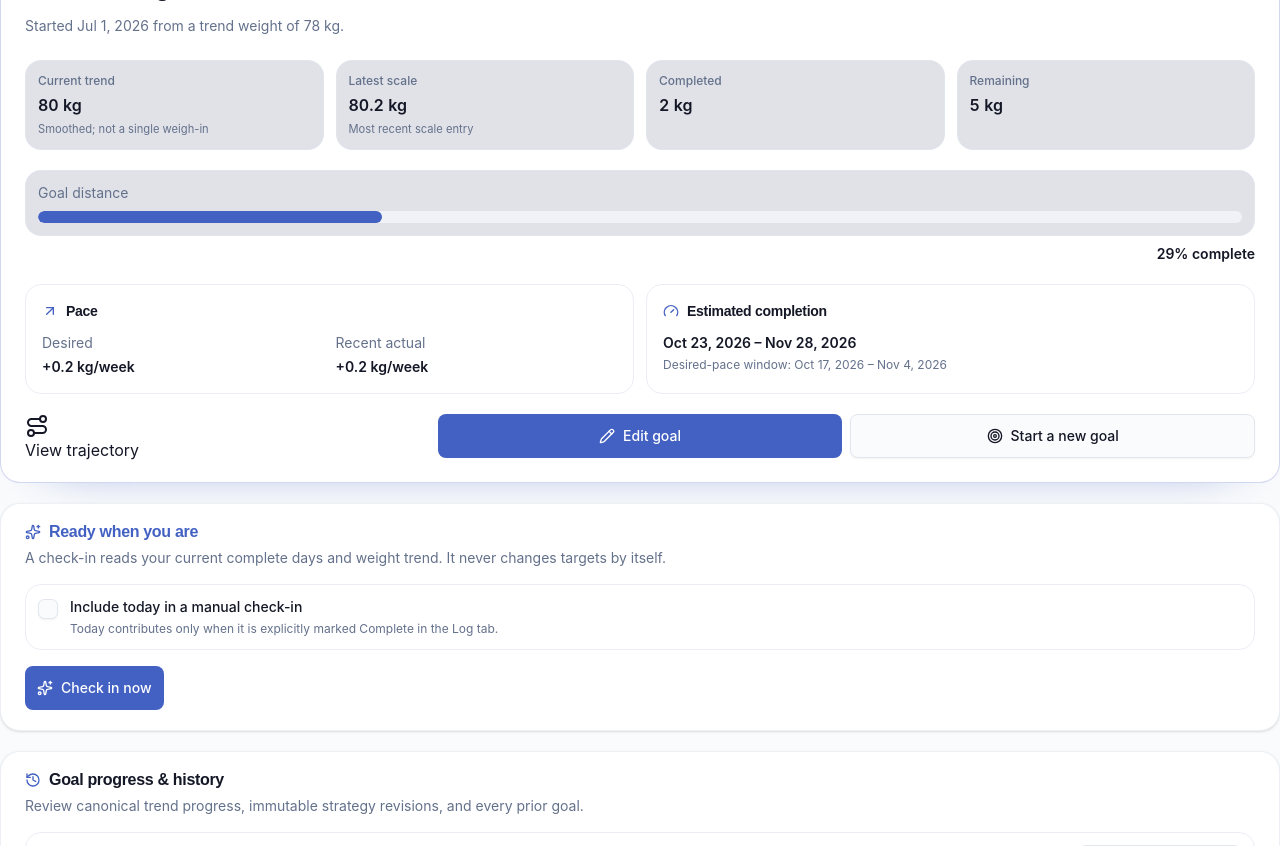
Test case: AdaptiveCoach › renders gain progress in the preferred unit
This screenshot has width=1280, height=846.
(page scrolled)
Expected: the text "80 kg" is shown, [38, 94, 82, 114]
Expected: the text "+0.2 kg/week" is shown 2 times, [42, 358, 135, 375]; [336, 358, 428, 375]
What coordinates should you click on to do the following:
click the button "Edit goal"
I would click on:
 (640, 436)
Its box is [438, 414, 842, 458].
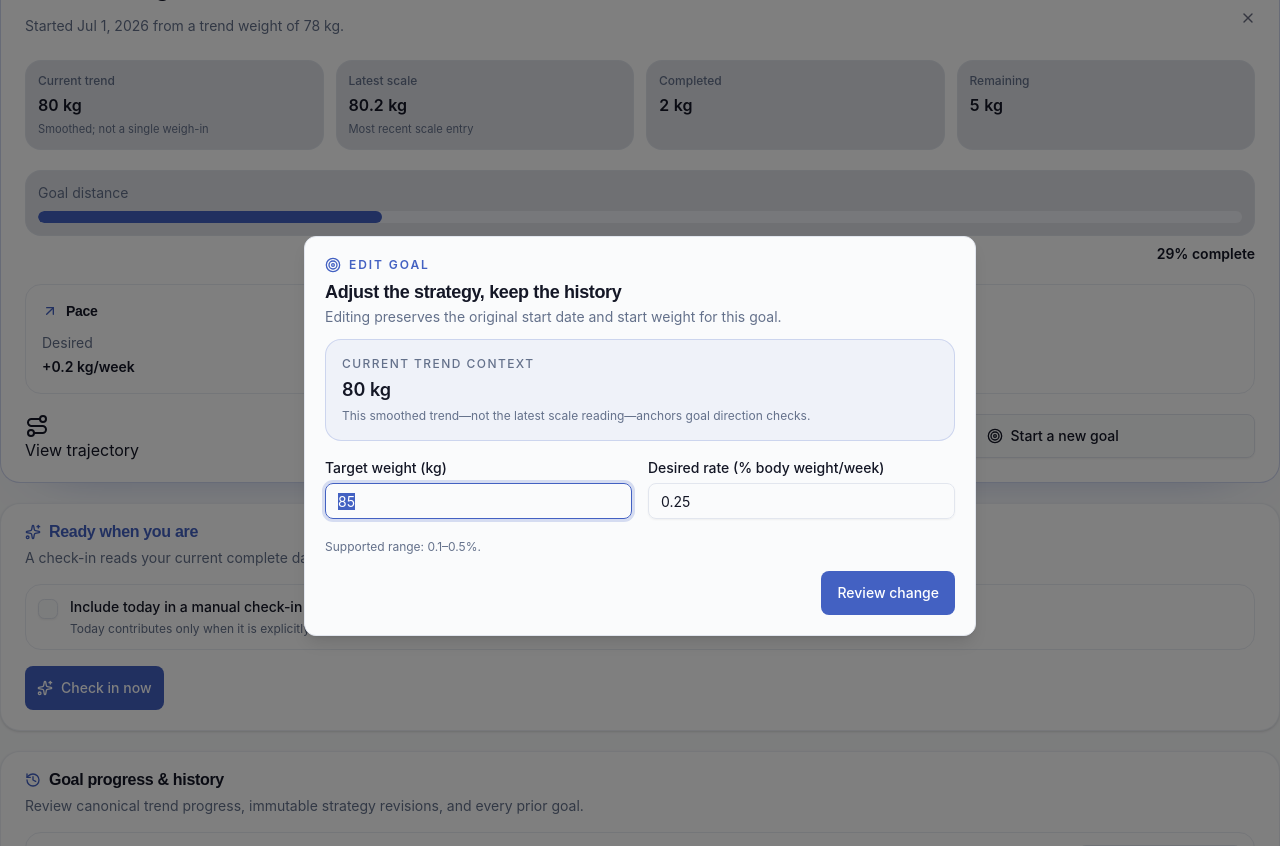
Expected: the number field labelled "Target weight (kg)" holds "85", [325, 483, 632, 519]
